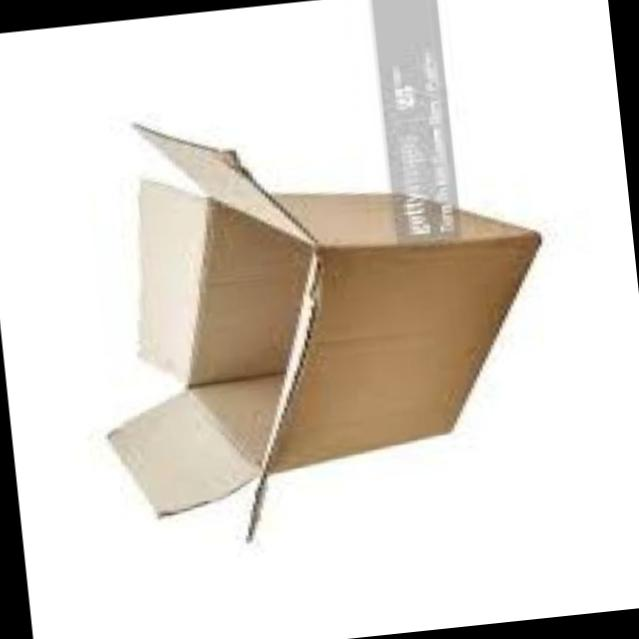cardboard paper: (107, 127, 537, 517)
